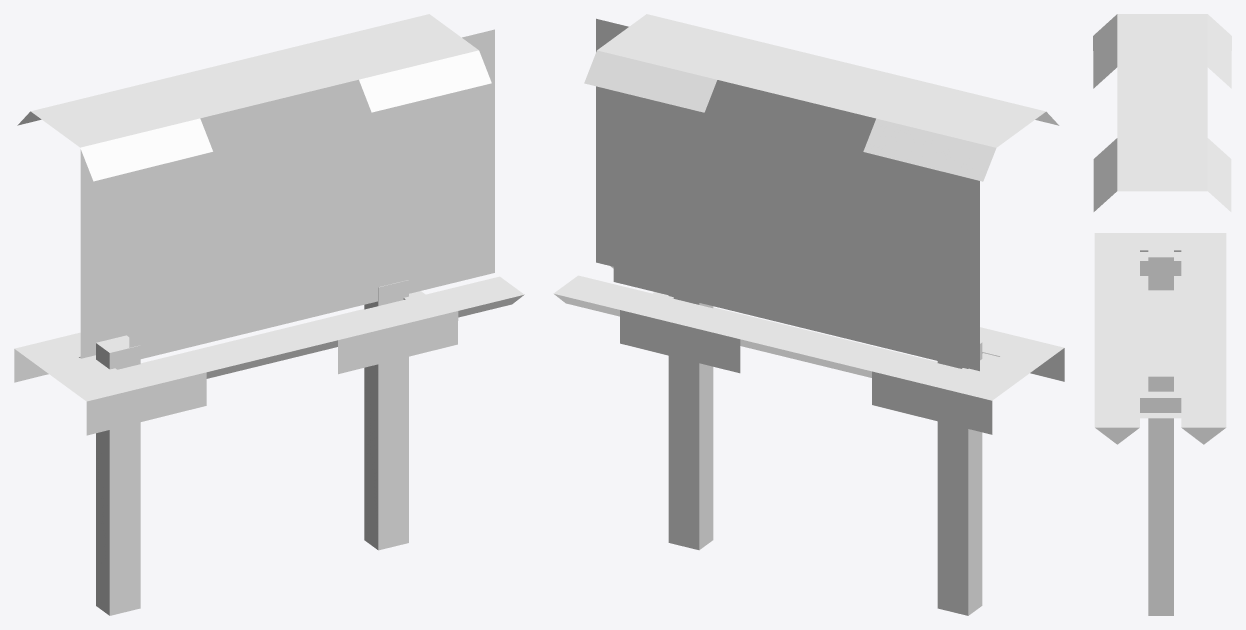
Rendered from gasBoard.glb.
The picture shows the model from 3 angles, left to right: view 1: azimuth 30°, elevation 25°; view 2: azimuth 150°, elevation 25°; view 3: azimuth 270°, elevation 25°; orthographic projection. The views are drawn at different scales.
Visible parts, largest first — view 1: gas_Board; view 2: gas_Board; view 3: gas_Board.
Boxes of the visible parts, box(x1,y1,x2,y2) form: gas_Board: box(14, 14, 524, 615); gas_Board: box(553, 14, 1064, 615); gas_Board: box(1093, 14, 1231, 615).
Bounding box in the file's own units: 11.18 × 12.01 × 3.37.
1 material, 1 textured.
